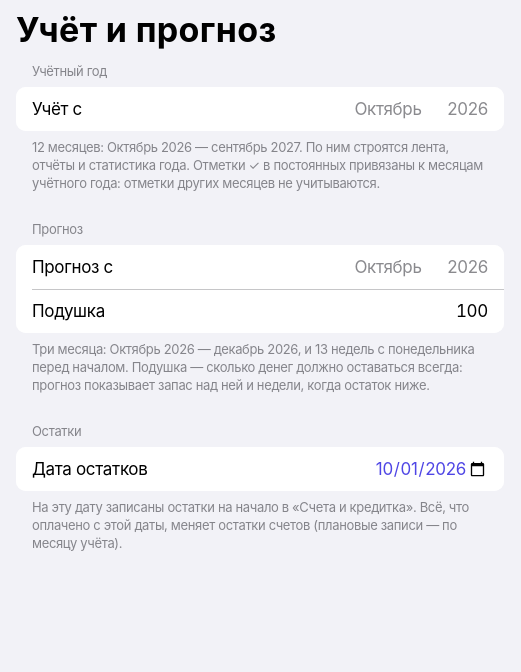
Test case: «Настройки» › «Отмена» drops the chosen year; choosing the stored one again hides the note
The width and height of the screenshot is (521, 672).
Select "Декабрь" in the dropdown named "Учёт с: месяц". click: (258, 109)
box: [94, 87, 422, 131]
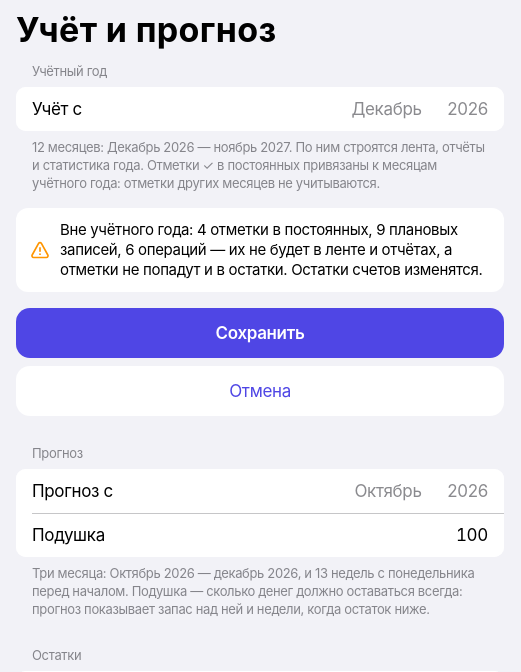
Click the button "Отмена". click: (260, 391)
box: [16, 366, 504, 416]
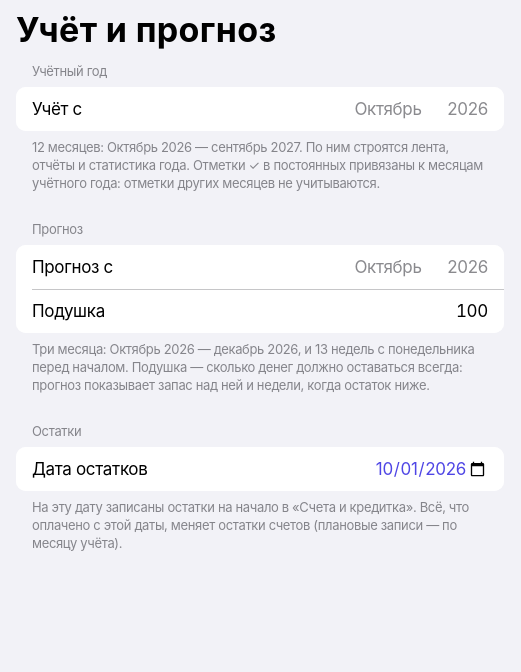
Expected: the text "Вне учётного года" is gone
Select "Ноябрь" in the dropdown named "Учёт с: месяц". click: (258, 109)
box: [94, 87, 422, 131]
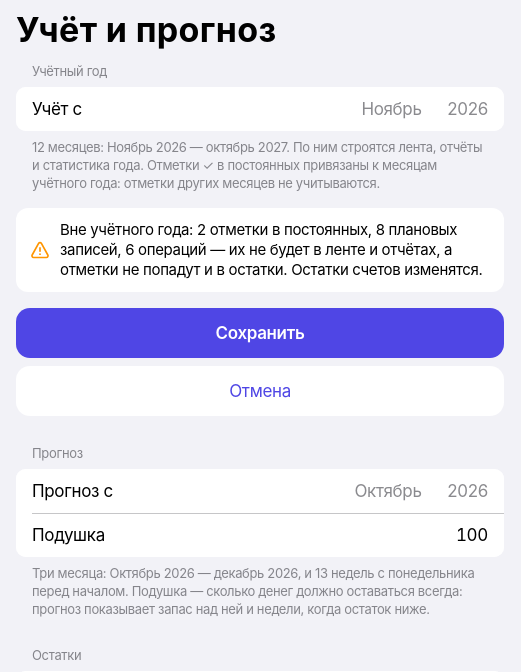
Expected: the text "Вне учётного года:" is shown, [60, 220, 482, 279]
Select "Октябрь" in the dropdown named "Учёт с: месяц". click: (258, 109)
box: [94, 87, 422, 131]
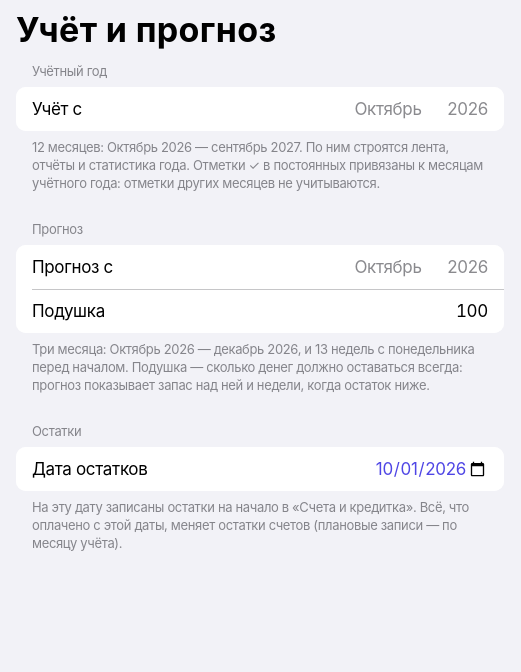
Expected: the text "Вне учётного года" is gone
Expected: the button "Сохранить" is gone
